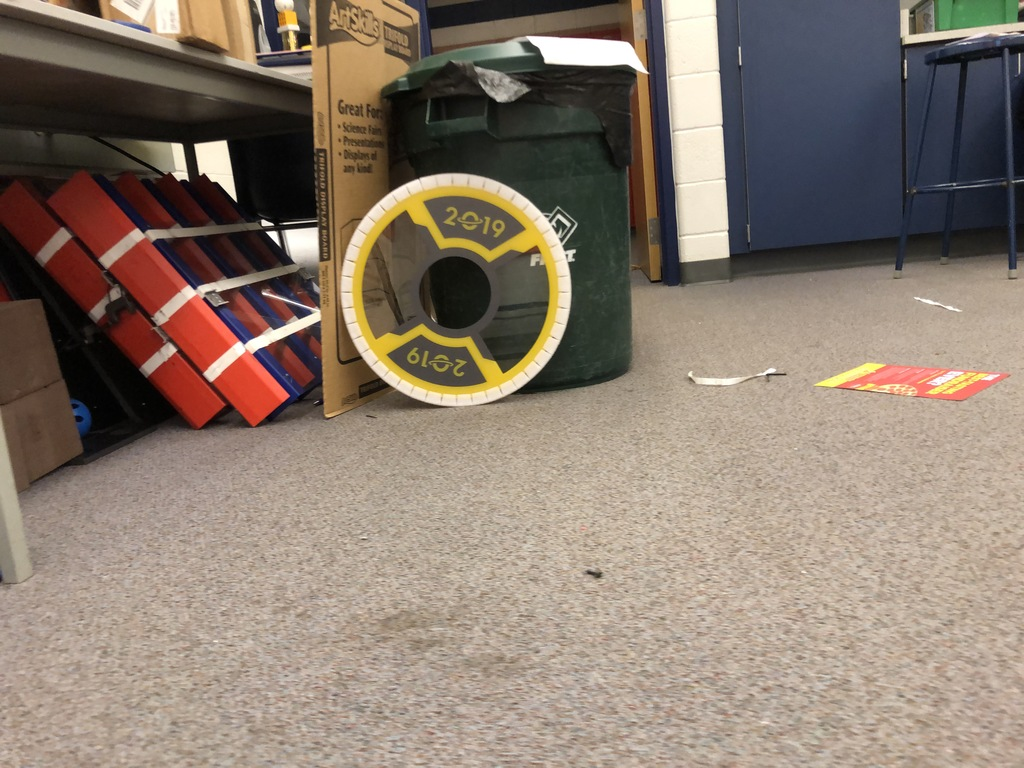hatch_panel: (332, 158, 579, 417)
